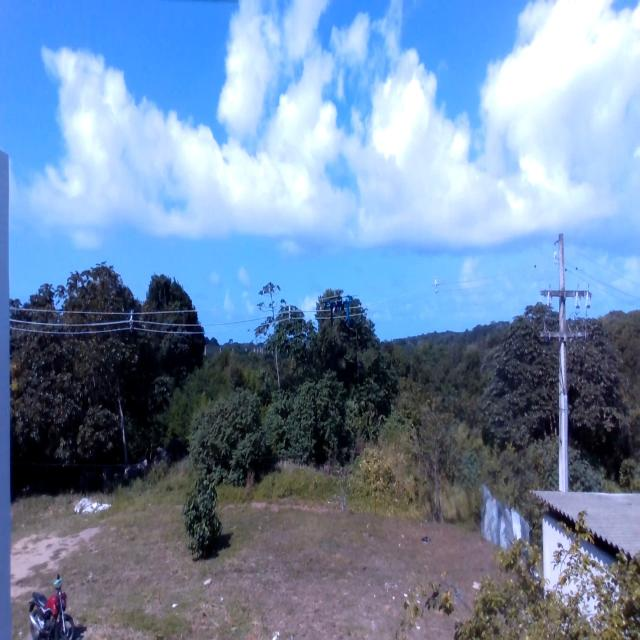-uav-: (323, 283, 356, 333)
